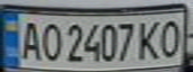0: (100, 20, 121, 63)
2: (63, 20, 84, 63)
4: (81, 20, 103, 63)
7: (115, 19, 139, 62)
A: (15, 18, 45, 62)
K: (136, 17, 163, 61)
O: (157, 17, 187, 59), (36, 19, 63, 62)
